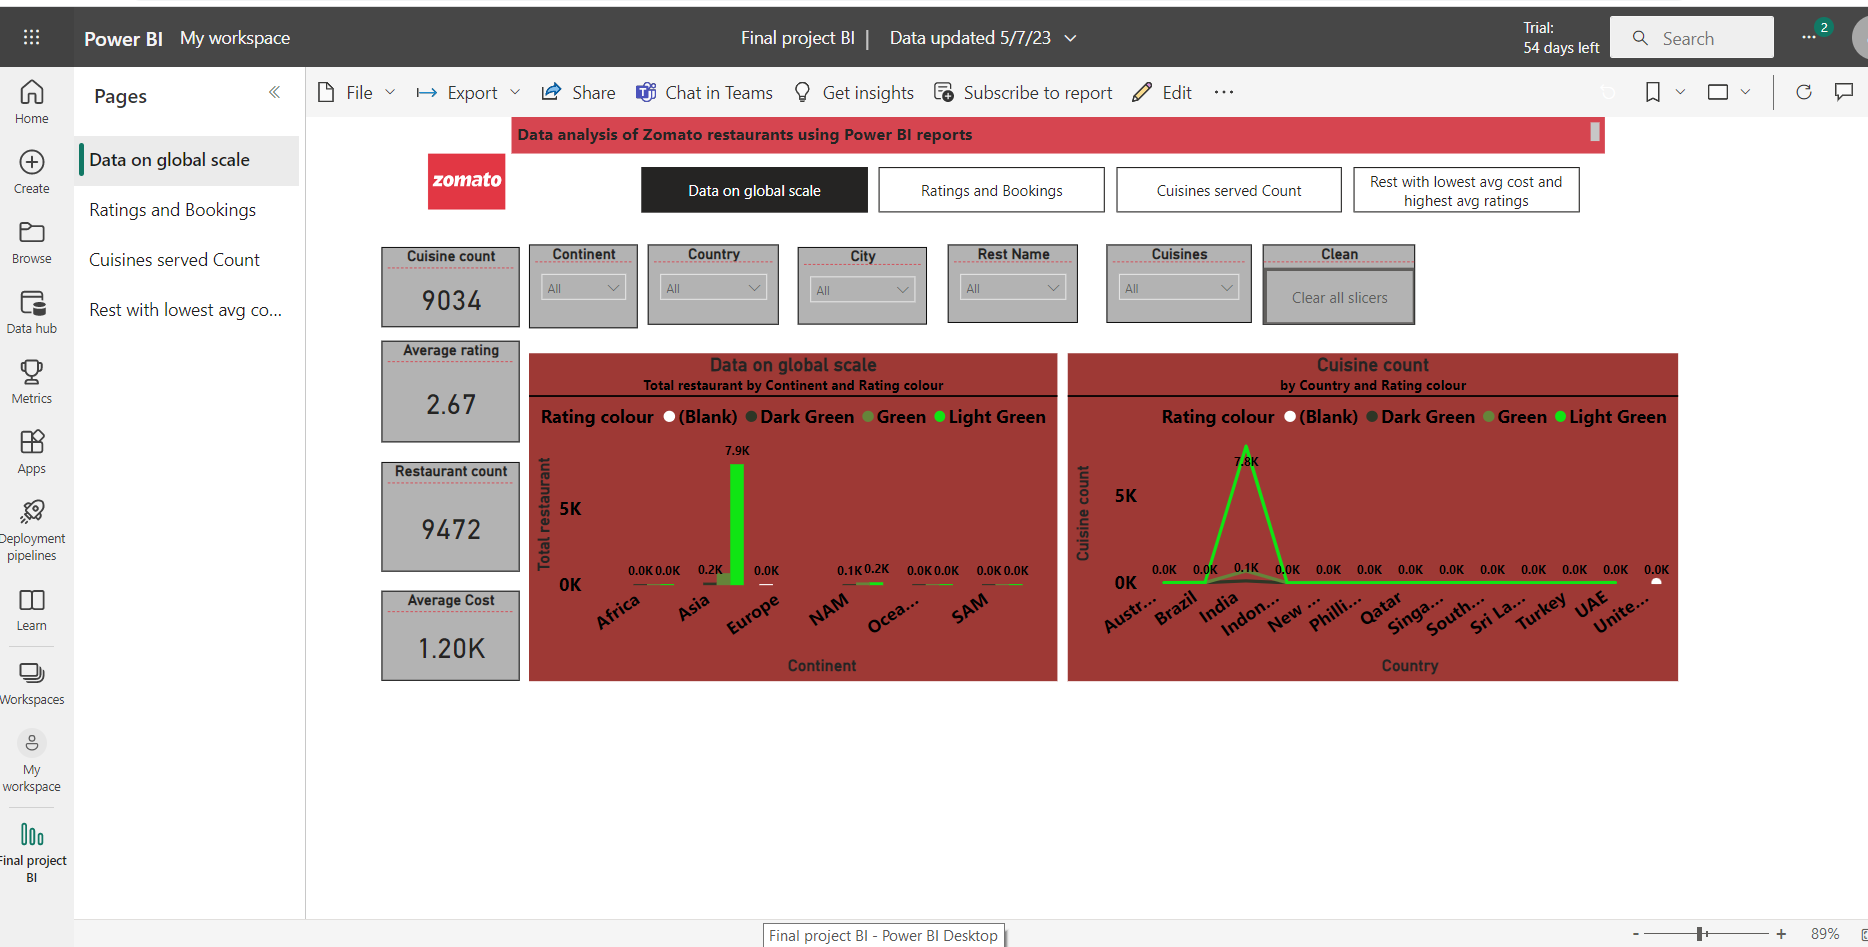

This screenshot's page, from the dashboard's own definition file:
{"tool":"powerbi","page":{"name":"Data on global scale","canvas":[1280,720],"ordinal":0},"visuals":[{"type":"card","title":"Restaurant count","fields":{"Values":["Append1.Total restaurant"]},"box":[7.3,310,123.6,98.2],"z":0},{"type":"card","title":"Average Cost","fields":{"Values":["Append1.Average cost"]},"box":[7.3,425.5,123.6,80.9],"z":1000},{"type":"card","title":"Average rating","fields":{"Values":["Append1.Average rating"]},"box":[7.3,200.9,123.6,90.9],"z":2000},{"type":"card","title":"Cuisine count","fields":{"Values":["Append1.Cuisine count"]},"box":[6.9,116.2,123.8,72.3],"z":3000},{"type":"clusteredColumnChart","title":"Data on global scale","fields":{"Category":["Append1.Continent Hierarchy.Continent","Append1.Continent Hierarchy.Country","Append1.Continent Hierarchy.City"],"Y":["Important measures.Total restaurant"],"Series":["KPIs.Rating colour"]},"box":[139.1,211.8,474.5,294.5],"z":4000},{"type":"slicer","title":"Continent","fields":{"Values":["Append1.Continent"]},"box":[139.2,114.6,97.7,75.4],"z":5000},{"type":"slicer","title":"Country","fields":{"Values":["Append1.Continent Hierarchy.Continent","Append1.Continent Hierarchy.Country"]},"box":[245.4,114.6,117.7,72.3],"z":6000},{"type":"slicer","title":"City","fields":{"Values":["Append1.City"]},"box":[380,116.2,116.2,69.2],"z":7000},{"type":"lineChart","fields":{"Category":["Append1.Continent Hierarchy.Continent","Append1.Continent Hierarchy.Country","Append1.Continent Hierarchy.City"],"Y":["Important measures.Cuisine count"],"Series":["KPIs.Rating colour"]},"box":[622.7,211.8,548.2,294.5],"z":8000},{"type":"slicer","title":"Rest Name","fields":{"Values":["Append1.Restaurant Name"]},"box":[515.4,114.6,116.9,70.8],"z":9000},{"type":"slicer","title":"Cuisines","fields":{"Values":["Append1.Cuisines"]},"box":[657.7,114.6,130,70.8],"z":10000},{"type":"image","box":[0,0,167.7,114.6],"z":11000},{"type":"actionButton","title":"Clean","box":[797.7,114.6,136.9,72.3],"z":12000},{"type":"textbox","box":[123.1,0,981.5,33.1],"z":13000},{"type":"pageNavigator","box":[240,44.5,845.5,41.8],"z":14000}]}

Visuals, with their boxes on the page's 1280x720 design canvas (x1, y1, x2, y2). These are canvas units, not pixel positions in the 1868x947 screenshot, which may show the page scaled, cropped or inside an application window:
"Restaurant count" card: pyautogui.locateOnScreen(7, 310, 131, 408)
"Average Cost" card: pyautogui.locateOnScreen(7, 426, 131, 506)
"Average rating" card: pyautogui.locateOnScreen(7, 201, 131, 292)
"Cuisine count" card: pyautogui.locateOnScreen(7, 116, 131, 188)
"Data on global scale" clusteredColumnChart: pyautogui.locateOnScreen(139, 212, 614, 506)
"Continent" slicer: pyautogui.locateOnScreen(139, 115, 237, 190)
"Country" slicer: pyautogui.locateOnScreen(245, 115, 363, 187)
"City" slicer: pyautogui.locateOnScreen(380, 116, 496, 185)
lineChart - Append1.Continent Hierarchy.Continent x Append1.Continent Hierarchy.Country: pyautogui.locateOnScreen(623, 212, 1171, 506)
"Rest Name" slicer: pyautogui.locateOnScreen(515, 115, 632, 185)
"Cuisines" slicer: pyautogui.locateOnScreen(658, 115, 788, 185)
image: pyautogui.locateOnScreen(0, 0, 168, 115)
"Clean" actionButton: pyautogui.locateOnScreen(798, 115, 935, 187)
textbox: pyautogui.locateOnScreen(123, 0, 1105, 33)
pageNavigator: pyautogui.locateOnScreen(240, 44, 1086, 86)
